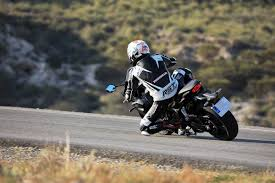moto: (117, 83, 241, 141)
person: (121, 41, 184, 101)
